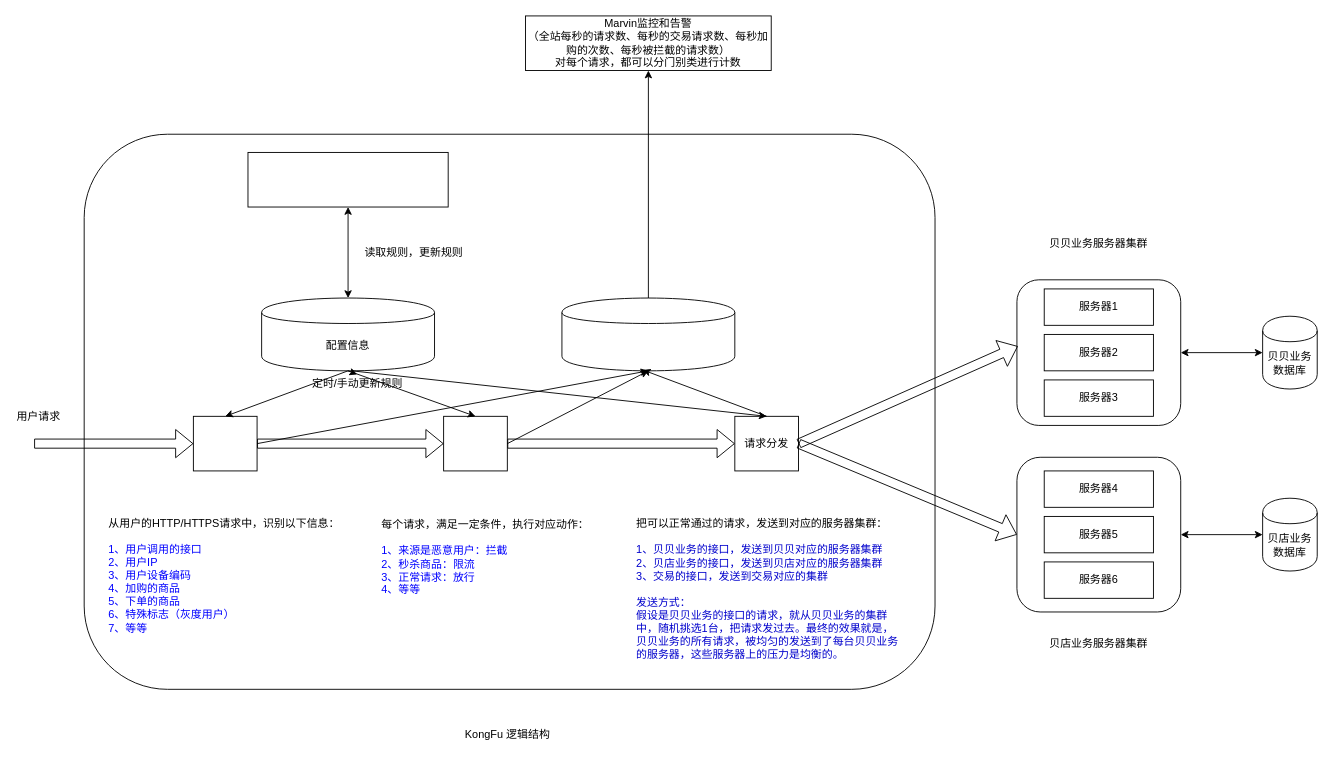
Some shapes in this 1333 by 760 pixel diagram are drawn without their labels. The shapes that lost their labels are listed below. From the top down, each one's box as (x1, y1, x2, y2) in pixels, then its label:
(247, 152, 448, 207): 管理界面 （查看和修改请求识别、请求过滤、请求分发的规则）
(561, 297, 735, 371): 统计信息
(192, 415, 257, 471): 请求识别
(443, 415, 507, 471): 请求过滤
